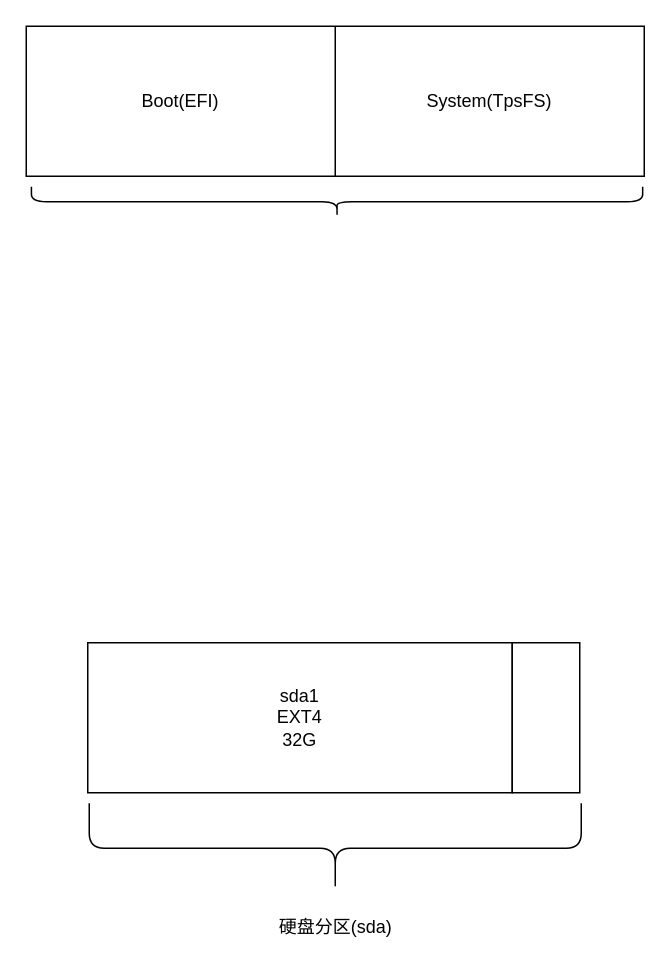
This 671x974 diagram has some shape labels left out. Each missing label, with the centre of its shape:
sda2 FAT32 32M: (545,717)
虚拟硬盘分区: (336,201)
